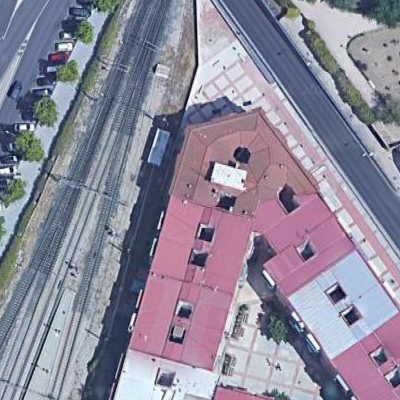tree: (28, 93, 66, 130), (8, 130, 49, 163), (262, 308, 292, 348), (2, 173, 30, 206), (72, 18, 101, 47), (54, 55, 81, 85), (91, 1, 124, 18)
